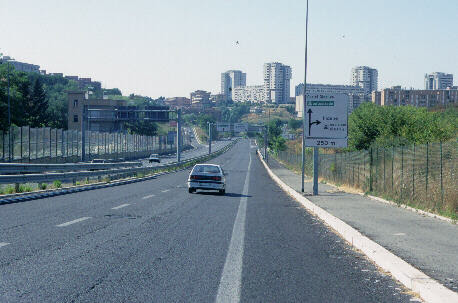car: (184, 156, 230, 196)
